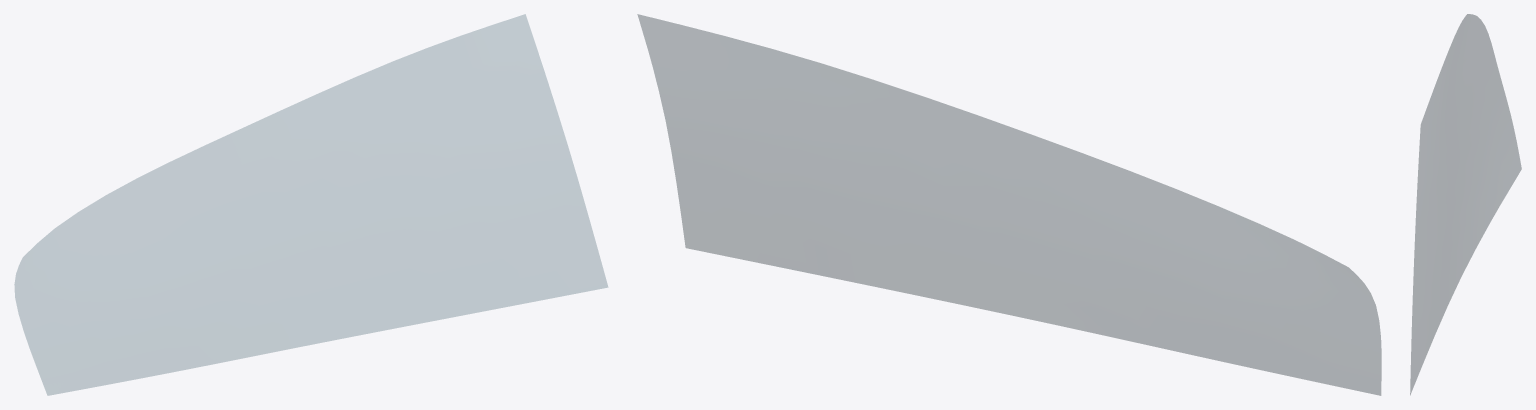
The picture shows the model from 3 angles, left to right: view 1: azimuth 30°, elevation 25°; view 2: azimuth 150°, elevation 25°; view 3: azimuth 270°, elevation 25°; orthographic projection. The views are drawn at different scales.
Parts seen in each view (by area): view 1: SM_DodgeCharger_Door_RR_Glass_Int2; view 2: SM_DodgeCharger_Door_RR_Glass_Int2; view 3: SM_DodgeCharger_Door_RR_Glass_Int2.
Boxes of the visible parts, x1,y1,x2,y2 form: SM_DodgeCharger_Door_RR_Glass_Int2: [14, 14, 607, 395]; SM_DodgeCharger_Door_RR_Glass_Int2: [637, 14, 1381, 395]; SM_DodgeCharger_Door_RR_Glass_Int2: [1410, 14, 1521, 394].
Bounding box in the file's own units: 0.8062 × 0.3175 × 0.1484.
